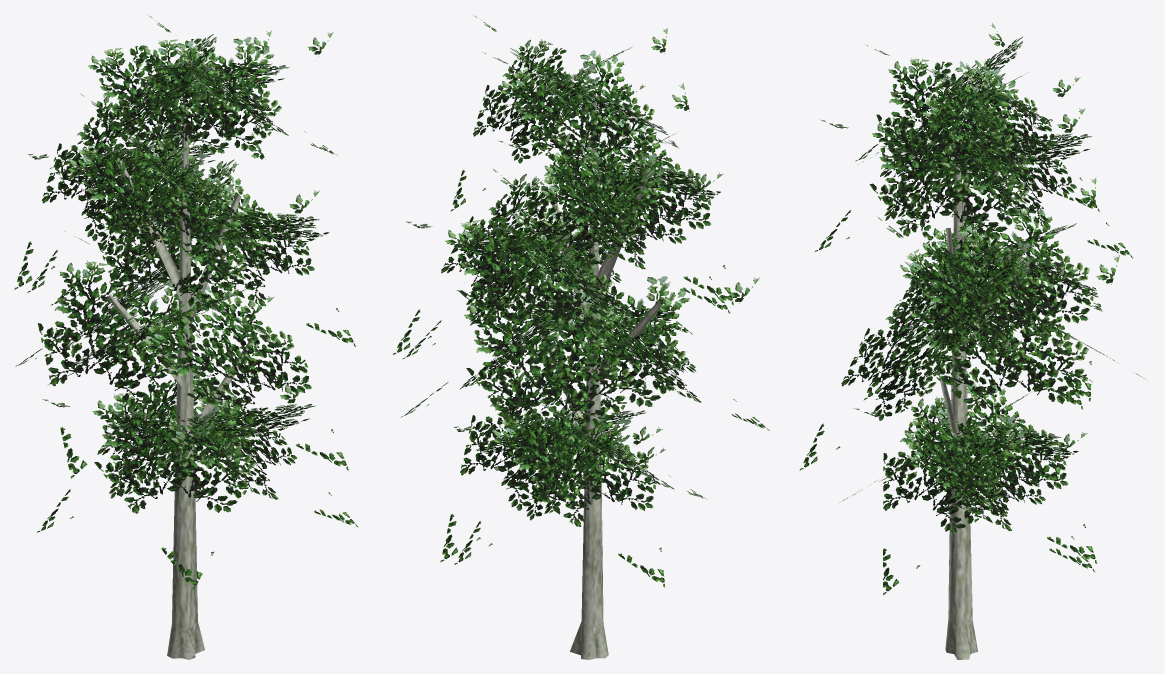
Rendered from beech.glb.
The picture shows the model from 3 angles, left to right: view 1: azimuth 30°, elevation 25°; view 2: azimuth 150°, elevation 25°; view 3: azimuth 270°, elevation 25°; orthographic projection.
Parts seen in each view (by area): view 1: tree_oak_top_a, tree_oak_a; view 2: tree_oak_top_a, tree_oak_a; view 3: tree_oak_top_a, tree_oak_a.
Boxes of the visible parts, bbox=[...] form: tree_oak_top_a: bbox=[14, 14, 358, 590]; tree_oak_a: bbox=[107, 102, 254, 659]; tree_oak_top_a: bbox=[393, 15, 769, 587]; tree_oak_a: bbox=[538, 102, 663, 659]; tree_oak_top_a: bbox=[799, 23, 1145, 595]; tree_oak_a: bbox=[939, 102, 977, 659].
Bounding box in the file's own units: 10.16 × 19.38 × 10.39.
Materials: 2 (2 with a texture image).
